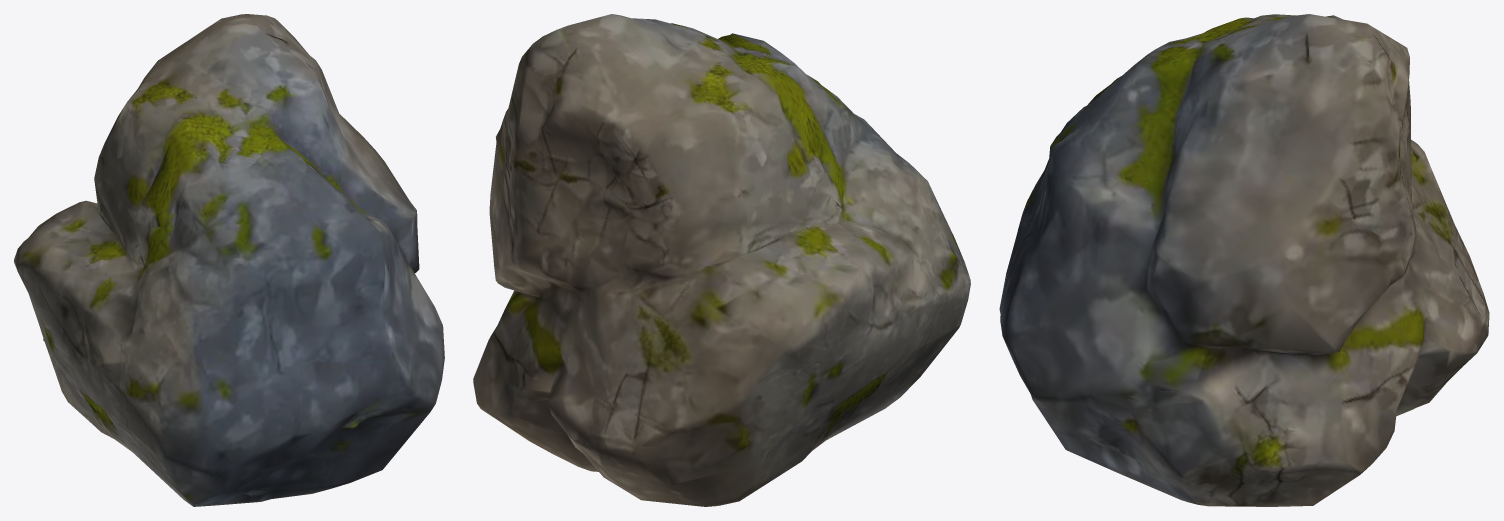
File: boulder.glb
3 renders of one model, left to right at view 1: azimuth 30°, elevation 25°; view 2: azimuth 150°, elevation 25°; view 3: azimuth 270°, elevation 25°, orthographic. The views are drawn at different scales.
Parts seen in each view (by area): view 1: tripo_node_a621138c-7f87-471b-a472-59e6138443a2; view 2: tripo_node_a621138c-7f87-471b-a472-59e6138443a2; view 3: tripo_node_a621138c-7f87-471b-a472-59e6138443a2.
Boxes of the visible parts, box(x1,y1,x2,y2) form: tripo_node_a621138c-7f87-471b-a472-59e6138443a2: box(14, 14, 444, 506); tripo_node_a621138c-7f87-471b-a472-59e6138443a2: box(473, 14, 970, 506); tripo_node_a621138c-7f87-471b-a472-59e6138443a2: box(999, 14, 1489, 506).
Size of the model in its own units: 0.8536 by 0.9451 by 0.9397.
Materials: 1 (1 with a texture image).
